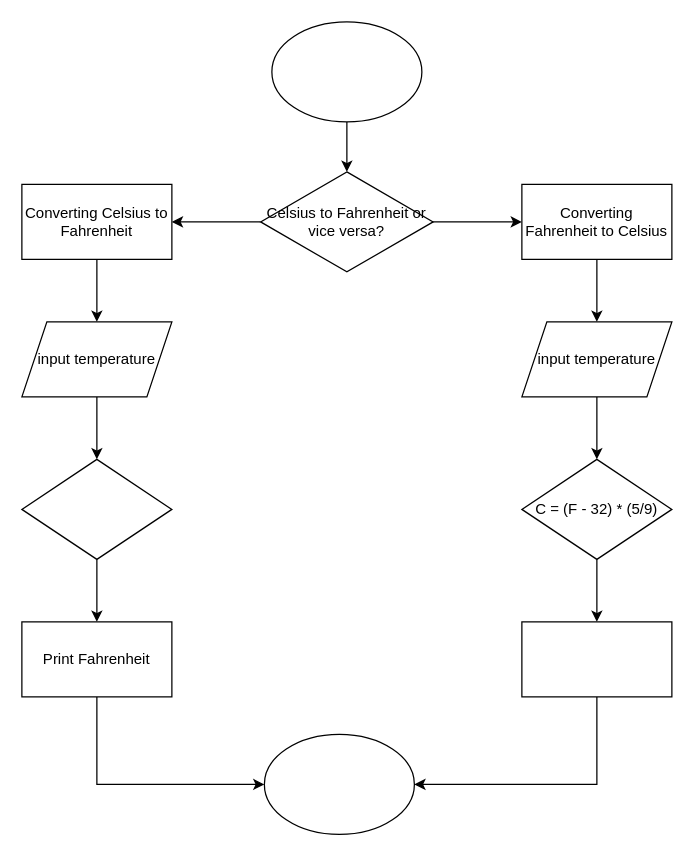
Image size: 694x856. Some labels were removed from this diagram. The shapes that lost their labels are listed below. From the top down, each one's centre as x and y in pixels, then its label:
At pixel 346 71: "Start".
At pixel 96 508: "F = (C * (9/5)) + 32".
At pixel 596 659: "Print Celsius".
At pixel 338 783: "End".
